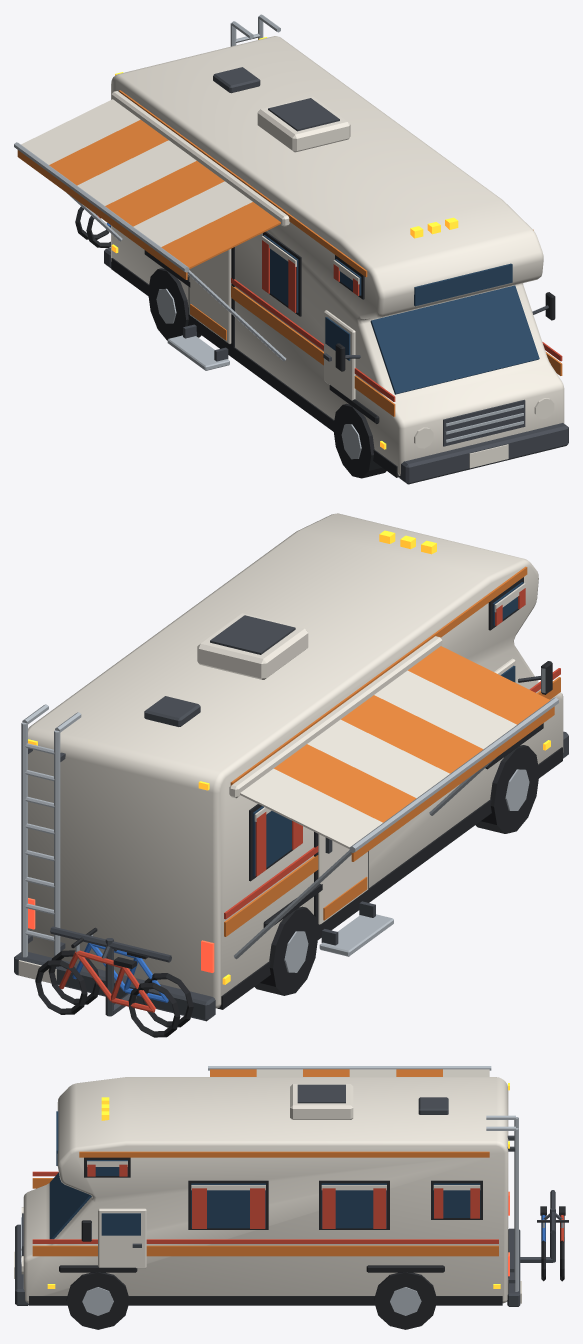
Rendered from low-poly-camper-rv.glb.
3 views of the same model, one above another, from view 1: azimuth 30°, elevation 25°; view 2: azimuth 150°, elevation 25°; view 3: azimuth 270°, elevation 25° (orthographic). The views are drawn at different scales.
Visible parts, largest first — view 1: Body, Awning, Windshield, Bumper_Front, Skirt, Door_Entry_Panel, Wheel_FR, Roof_AC, Wheel_RR, Awning_Case, Window_Cabover_Front, Stripe_Orange_-1 (+13 smaller); view 2: Body, Awning, Skirt, Wheel_RR, Wheel_FR, Roof_AC, Awning_Case, Bumper_Rear, Door_Entry_Panel, Awning_Bar, Roof_AC_Grille, Awning_Valance (+15 smaller); view 3: Body, Stripe_Orange_1, Skirt, Wheel_FL, Wheel_RL, Stripe_Cabover_1, Awning, Door_Driver_Panel, Stripe_Red_1, Win_L1_Glass, Win_L2_Glass, Windshield (+20 smaller).
Part boxes in pixels (x1,y1,x2,y2): Body: (111, 36, 564, 475); Awning: (21, 99, 280, 268); Windshield: (370, 285, 539, 394); Bumper_Front: (399, 423, 568, 484); Skirt: (111, 258, 399, 477); Door_Entry_Panel: (189, 249, 231, 343); Wheel_FR: (333, 403, 386, 478); Roof_AC: (257, 96, 350, 152); Wheel_RR: (148, 268, 201, 340); Awning_Case: (111, 91, 289, 226); Window_Cabover_Front: (414, 263, 512, 306); Stripe_Orange_-1: (231, 285, 395, 416); Body: (28, 513, 563, 1008); Awning: (240, 646, 550, 848); Skirt: (217, 747, 562, 1009); Wheel_RR: (254, 906, 318, 995); Wheel_FR: (475, 745, 539, 833); Roof_AC: (197, 613, 308, 679); Awning_Case: (229, 636, 442, 798); Bumper_Rear: (14, 952, 215, 1021); Door_Entry_Panel: (318, 834, 368, 924); Awning_Bar: (349, 697, 558, 852); Roof_AC_Grille: (210, 615, 295, 654); Awning_Valance: (351, 706, 554, 861); Body: (23, 1077, 508, 1303); Stripe_Orange_1: (32, 1245, 498, 1256); Skirt: (29, 1296, 502, 1305); Wheel_FL: (66, 1272, 129, 1329); Wheel_RL: (374, 1272, 437, 1329); Stripe_Cabover_1: (79, 1151, 489, 1157); Awning: (210, 1069, 489, 1076); Door_Driver_Panel: (98, 1208, 146, 1268); Stripe_Red_1: (32, 1239, 498, 1243); Win_L1_Glass: (191, 1183, 265, 1228); Win_L2_Glass: (321, 1183, 386, 1228); Windshield: (49, 1172, 91, 1239).
Bounding box in the file's own units: 15.2 × 11.93 × 29.77.
